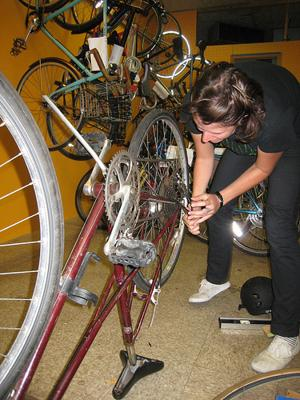person: (181, 58, 300, 377)
